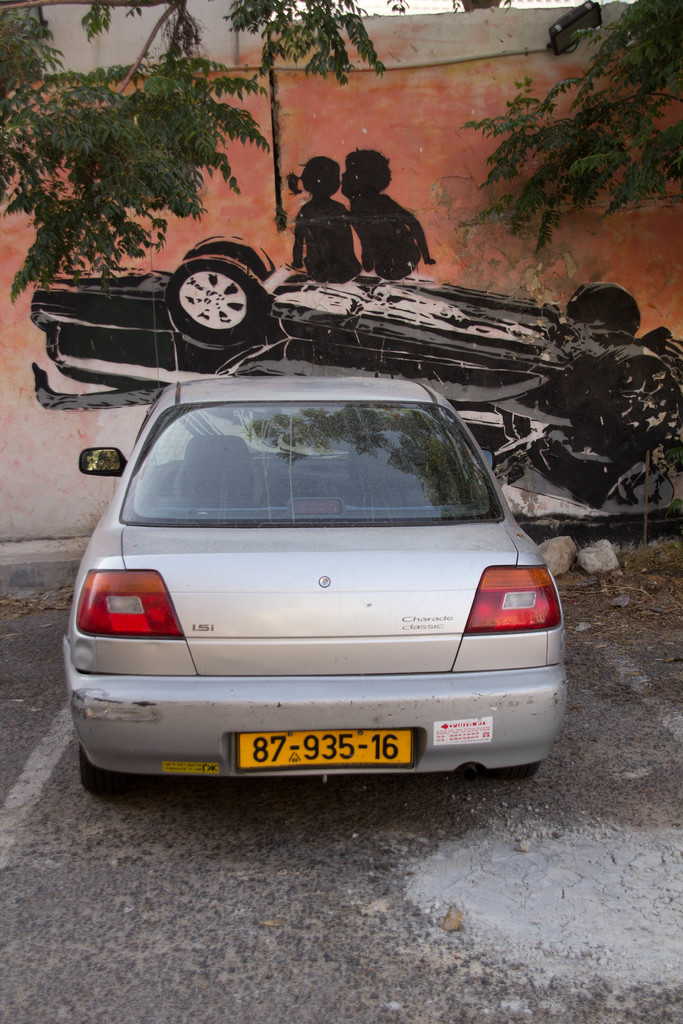license plate: (238, 732, 411, 768)
